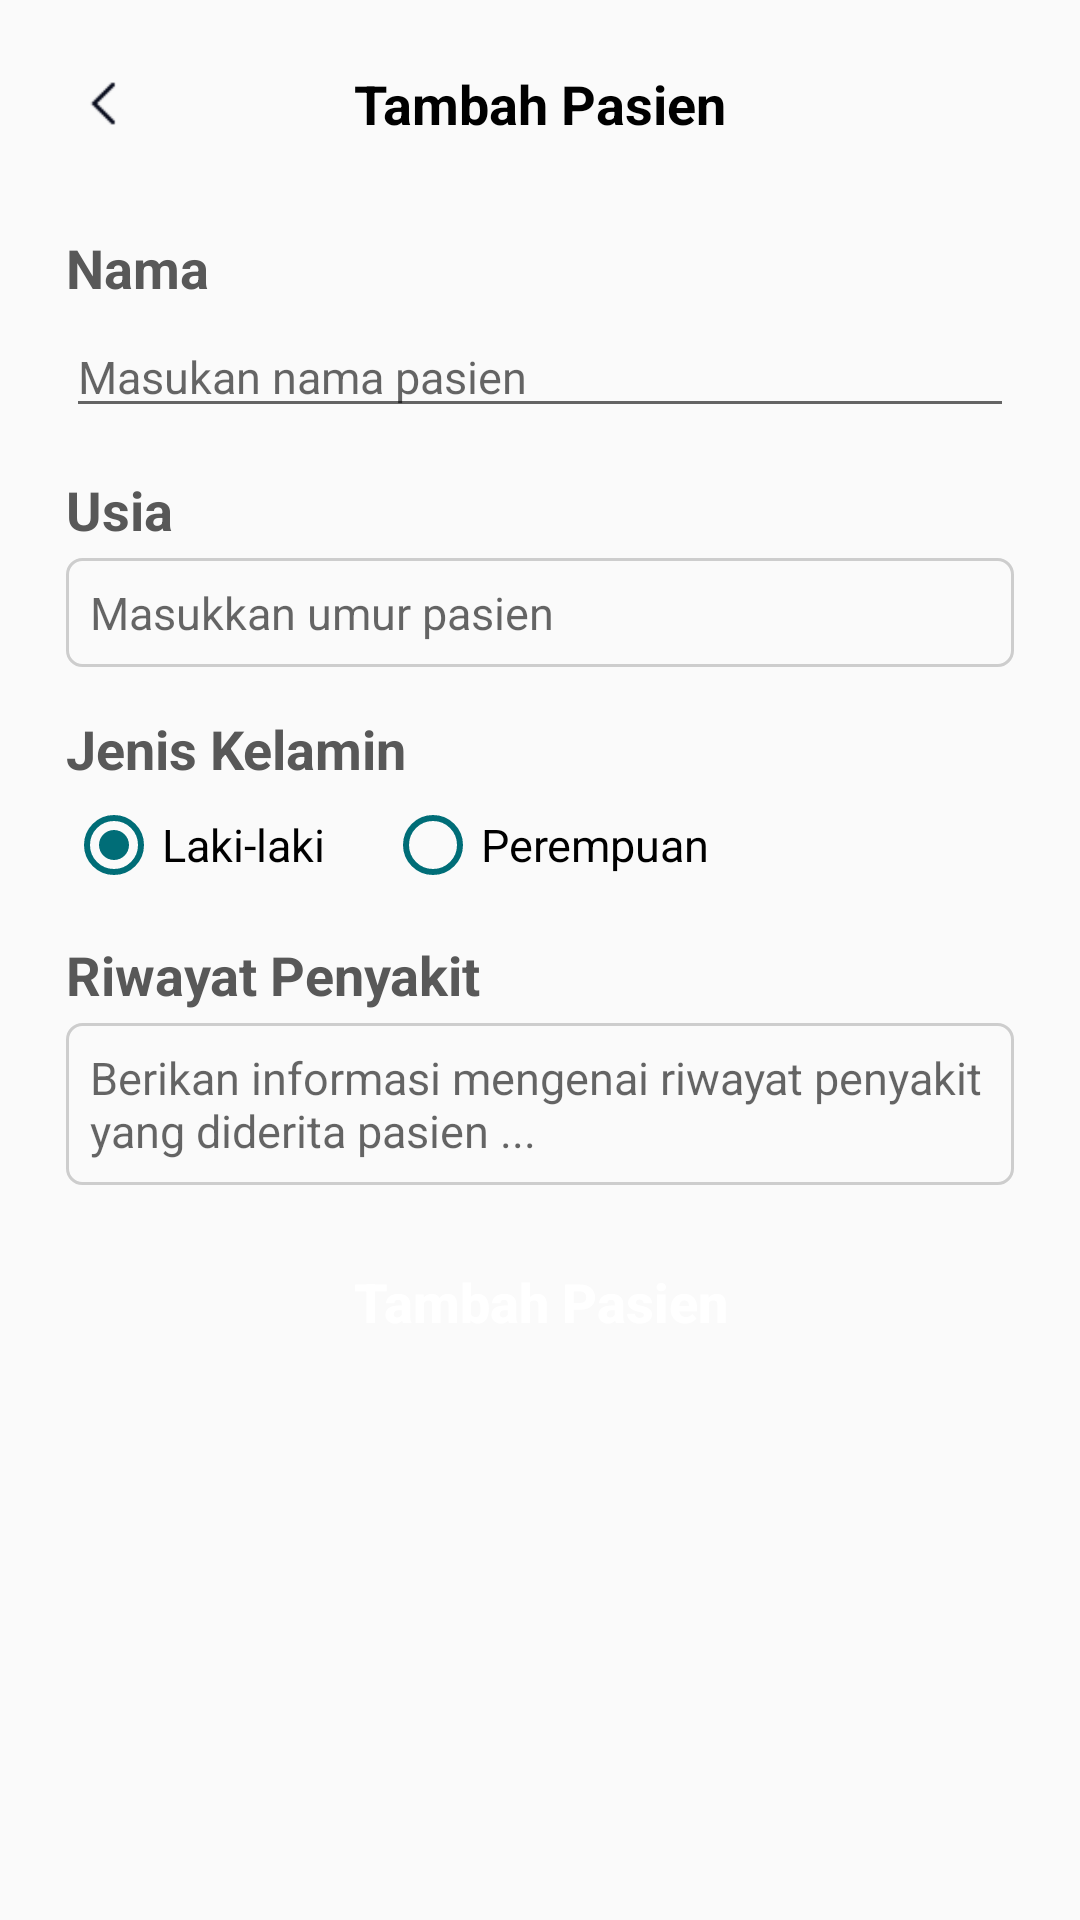

Icons on this 1080w x 1920h Android screen, each with the point to tap as (x=x, y=y):
back: (x=103, y=103)
